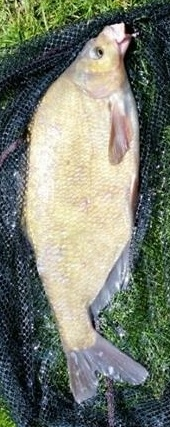Abramis brama: (20, 20, 150, 407)
